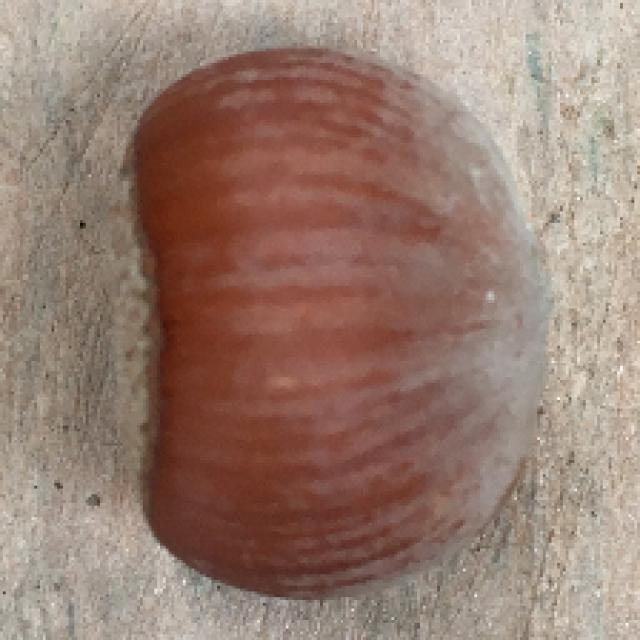hazelnut: (113, 39, 566, 584)
